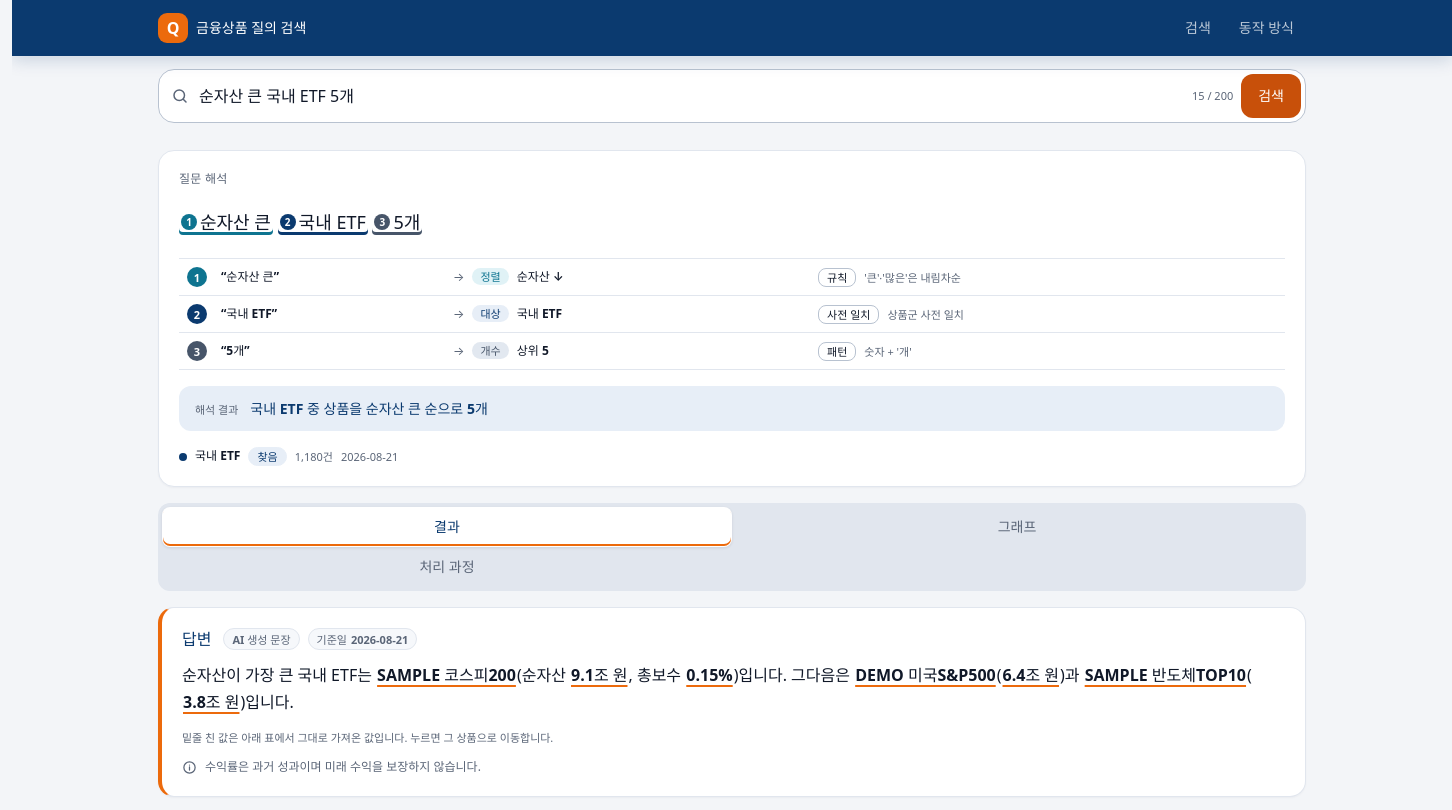
Test: 결과 — outcome 9종 › 좁은 화면: 질문 해석은 늘 보이고 결과·처리 과정은 전환
The width and height of the screenshot is (1452, 810).
Check: the element "질문 해석" is shown, box left=158, top=150, right=1306, bottom=487
Check: the element "어떻게 답했나" is not shown
Click the tab "처리 과정" at [447, 567], box left=162, top=547, right=732, bottom=587
(page scrolled)
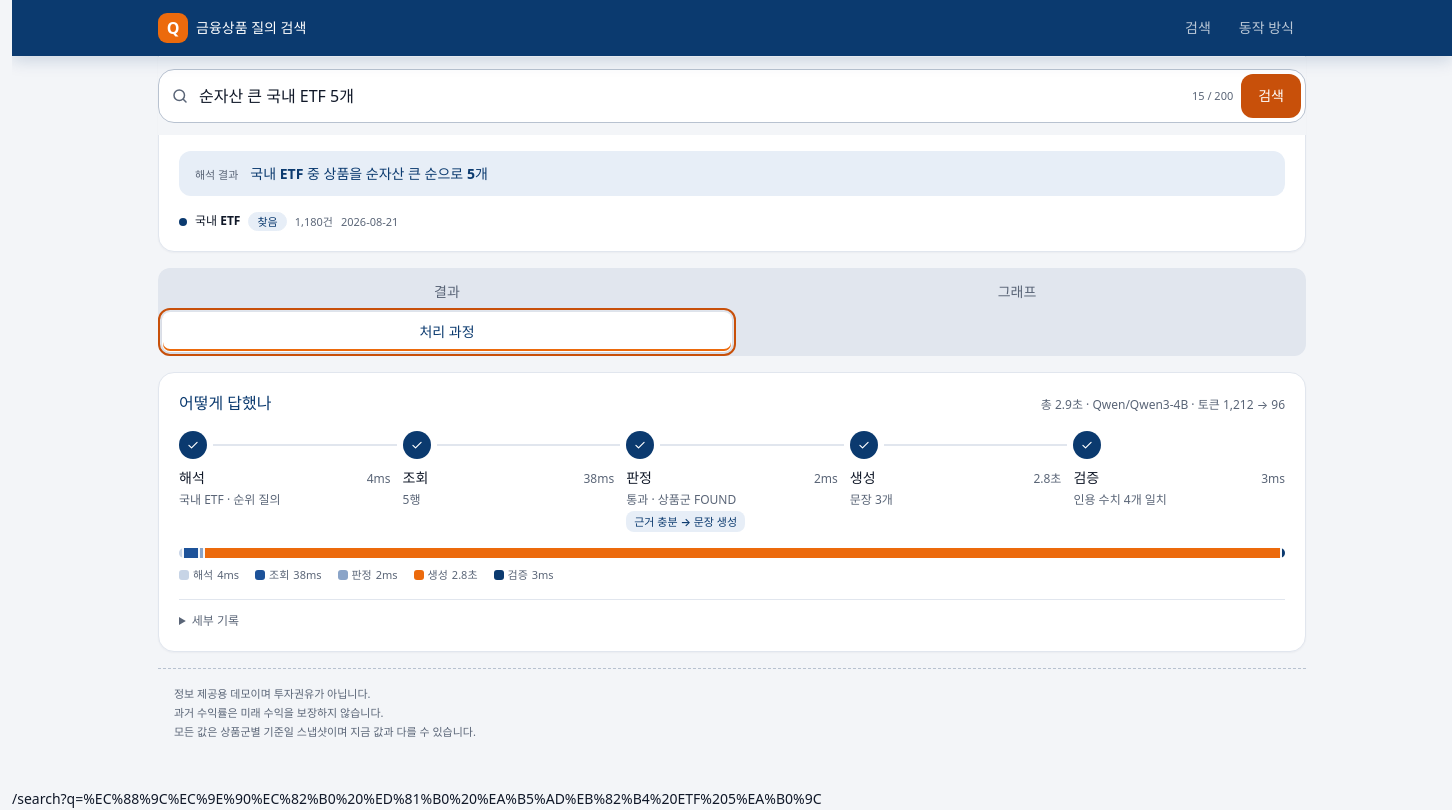
Check: the element "어떻게 답했나" is shown, box left=158, top=372, right=1306, bottom=652
Check: the heading "답변" is gone
